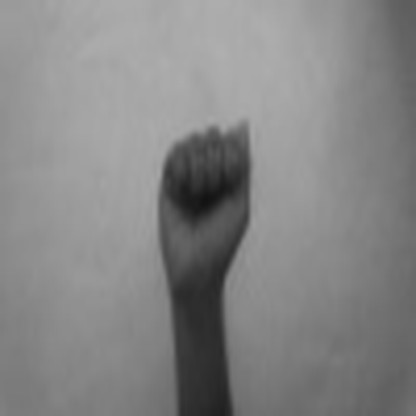a: (150, 104, 259, 287)
